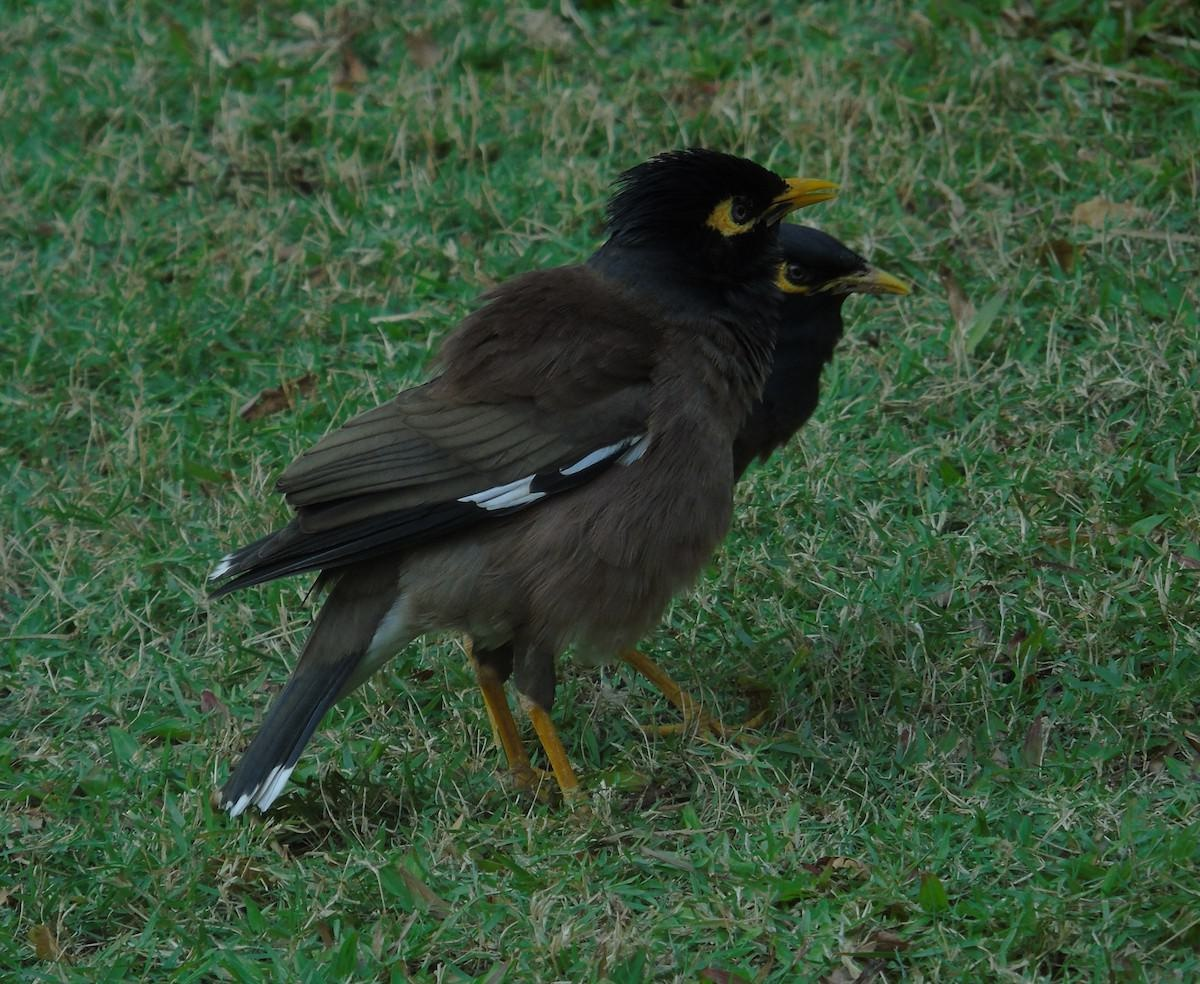myna: (295, 163, 846, 725)
